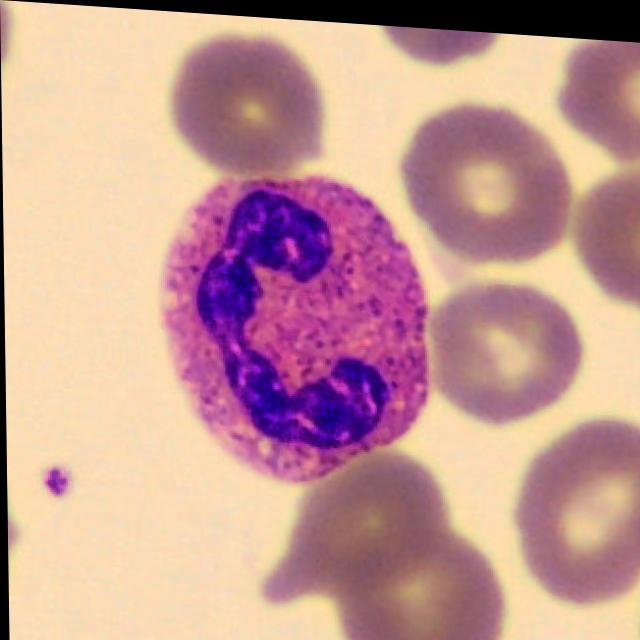Neutrofilo segmentado: (158, 171, 427, 484)
